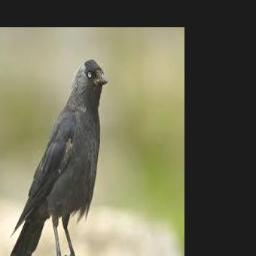Crow: (6, 59, 107, 256)
